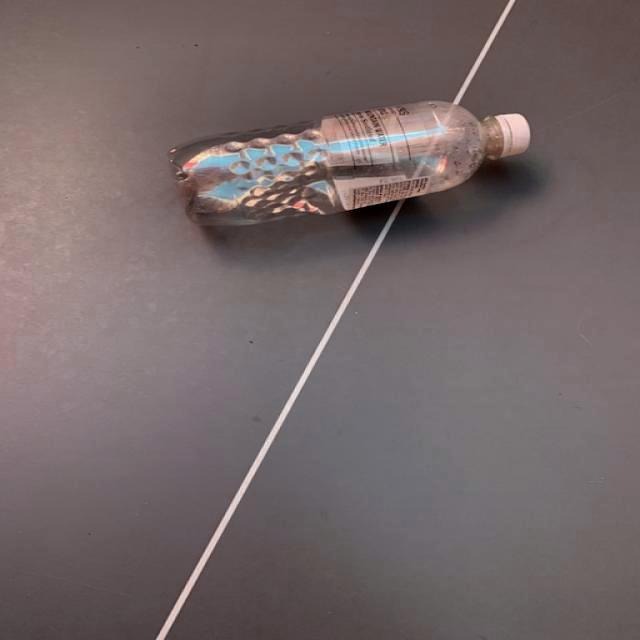bottle: (168, 99, 530, 225)
